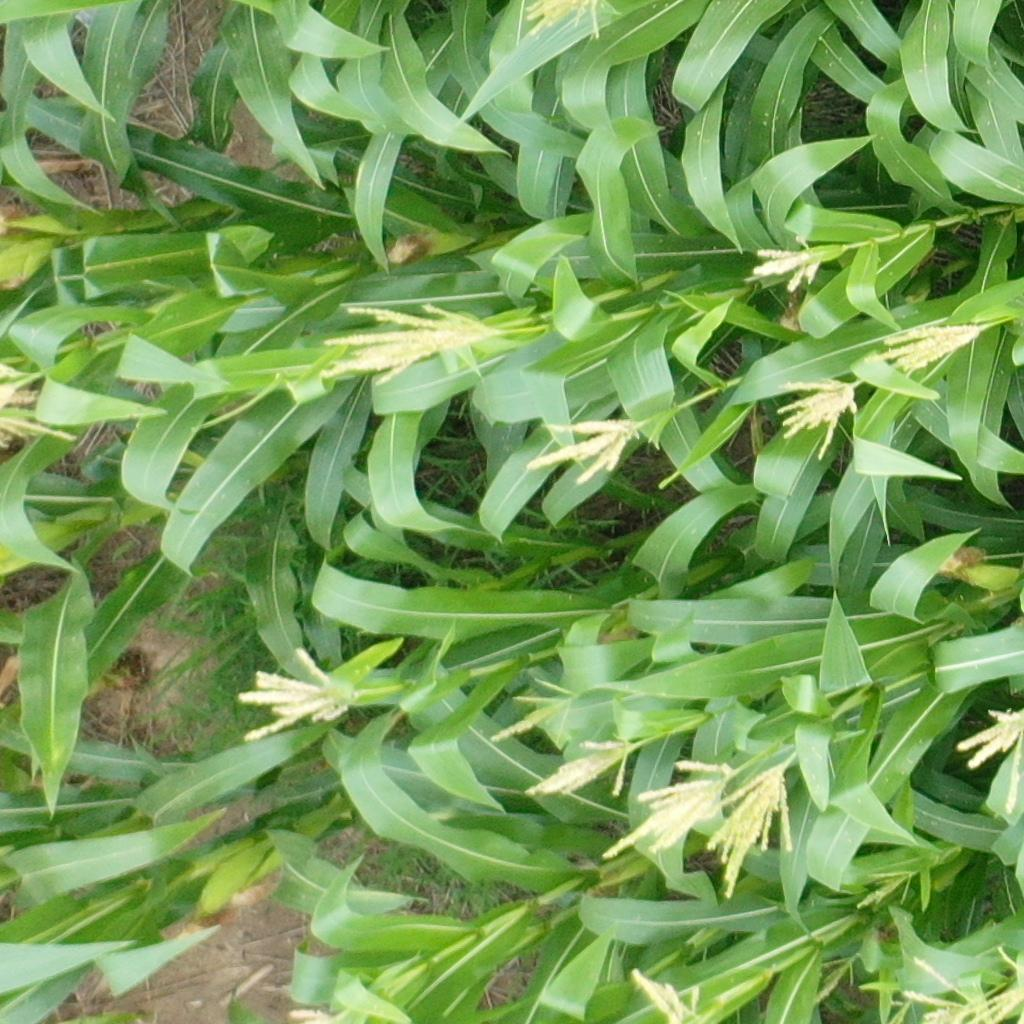Tassel: (703, 756, 802, 903), (600, 756, 733, 864), (237, 647, 353, 747), (316, 306, 452, 387), (528, 414, 651, 492), (528, 730, 631, 805), (954, 706, 1024, 816), (865, 317, 987, 378), (777, 373, 859, 461), (488, 674, 575, 751), (1, 366, 73, 449), (898, 955, 981, 1024), (961, 947, 1024, 1024), (624, 966, 706, 1024), (408, 301, 502, 351), (751, 228, 822, 294), (525, 1, 609, 42), (851, 865, 921, 910), (286, 1008, 350, 1024)
